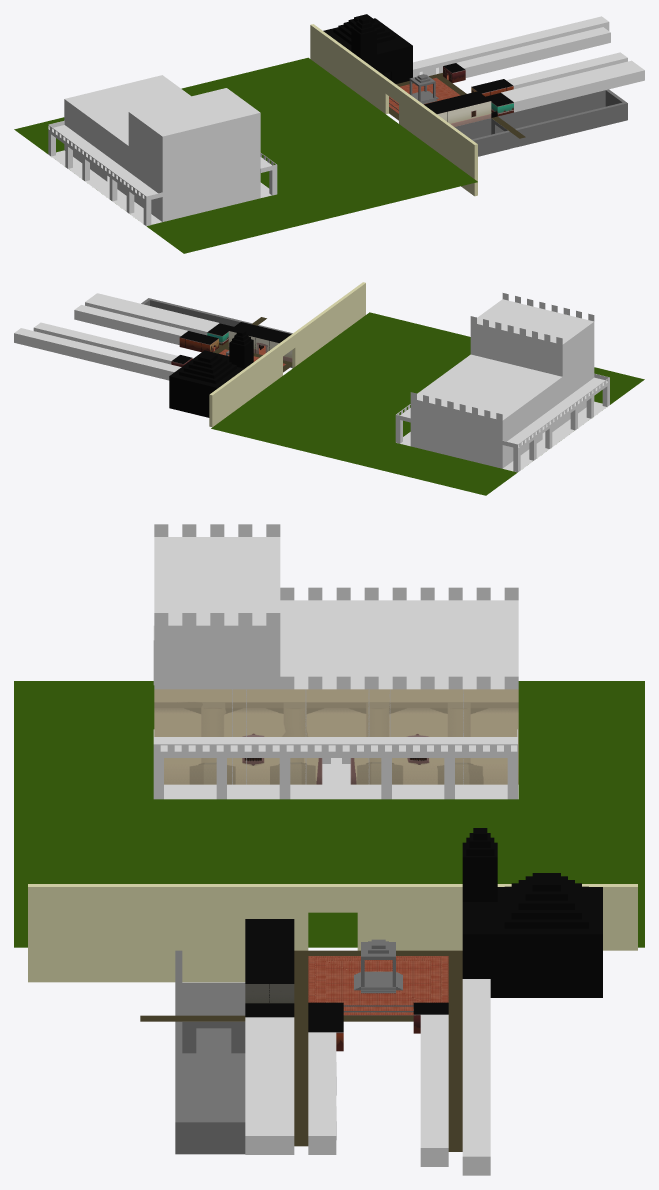
File: FinalTown.glb
3 renders of one model, top to bottom at view 1: azimuth 30°, elevation 25°; view 2: azimuth 150°, elevation 25°; view 3: azimuth 270°, elevation 25°, orthographic. The views are drawn at different scales.
Parts seen in each view (by area): view 1: Grass, Mansion, Tower., Wall2, Canal, Church, ArcosBack, TownHall, Plane, Square, Road, Store (+11 smaller); view 2: Grass, Mansion, Tower., Wall2, Church, ArcosBack, Plane, TownHall, Canal, Store, Castles, Arcos (+1 smaller); view 3: Grass, Mansion, Wall2, Tower., Church, Canal, Arcos, Square, Road, Plane, TownHall, Castles (+5 smaller).
Boxes of the visible parts, x1=… form: Grass: x1=14, y1=57, x2=477, y2=253; Mansion: x1=64, y1=75, x2=260, y2=221; Tower.: x1=128, y1=88, x2=260, y2=170; Wall2: x1=310, y1=24, x2=477, y2=196; Canal: x1=454, y1=89, x2=627, y2=156; Church: x1=323, y1=14, x2=412, y2=83; ArcosBack: x1=48, y1=120, x2=162, y2=226; TownHall: x1=424, y1=91, x2=491, y2=126; Plane: x1=51, y1=150, x2=271, y2=224; Square: x1=389, y1=74, x2=460, y2=113; Road: x1=389, y1=73, x2=525, y2=138; Store: x1=471, y1=79, x2=513, y2=96; Grass: x1=211, y1=312, x2=644, y2=495; Mansion: x1=410, y1=354, x2=594, y2=468; Tower.: x1=470, y1=293, x2=594, y2=376; Wall2: x1=209, y1=282, x2=365, y2=427; Church: x1=169, y1=329, x2=253, y2=417; ArcosBack: x1=502, y1=373, x2=609, y2=472; Plane: x1=396, y1=401, x2=606, y2=472; TownHall: x1=228, y1=322, x2=292, y2=362; Canal: x1=141, y1=298, x2=292, y2=367; Store: x1=179, y1=331, x2=218, y2=352; Castles: x1=410, y1=392, x2=502, y2=420; Arcos: x1=395, y1=404, x2=410, y2=443; Grass: x1=14, y1=681, x2=644, y2=947; Mansion: x1=154, y1=600, x2=518, y2=784; Wall2: x1=28, y1=884, x2=637, y2=982; Tower.: x1=154, y1=524, x2=280, y2=689; Church: x1=462, y1=828, x2=602, y2=997; Canal: x1=175, y1=950, x2=245, y2=1154; Arcos: x1=153, y1=729, x2=517, y2=799; Square: x1=308, y1=939, x2=448, y2=1015; Road: x1=140, y1=950, x2=462, y2=1151; Plane: x1=164, y1=758, x2=518, y2=799; TownHall: x1=245, y1=919, x2=294, y2=1003; Castles: x1=280, y1=587, x2=518, y2=689.
Size of what is drawn, in the model's own units: 167 by 32.01 by 90.
326 materials, 278 textured.
